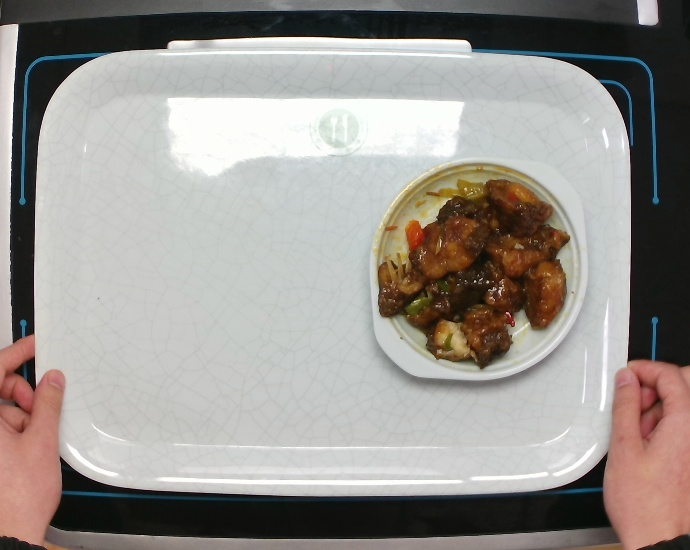JYsf-Shuang_Er_Pan: (366, 154, 591, 383)
